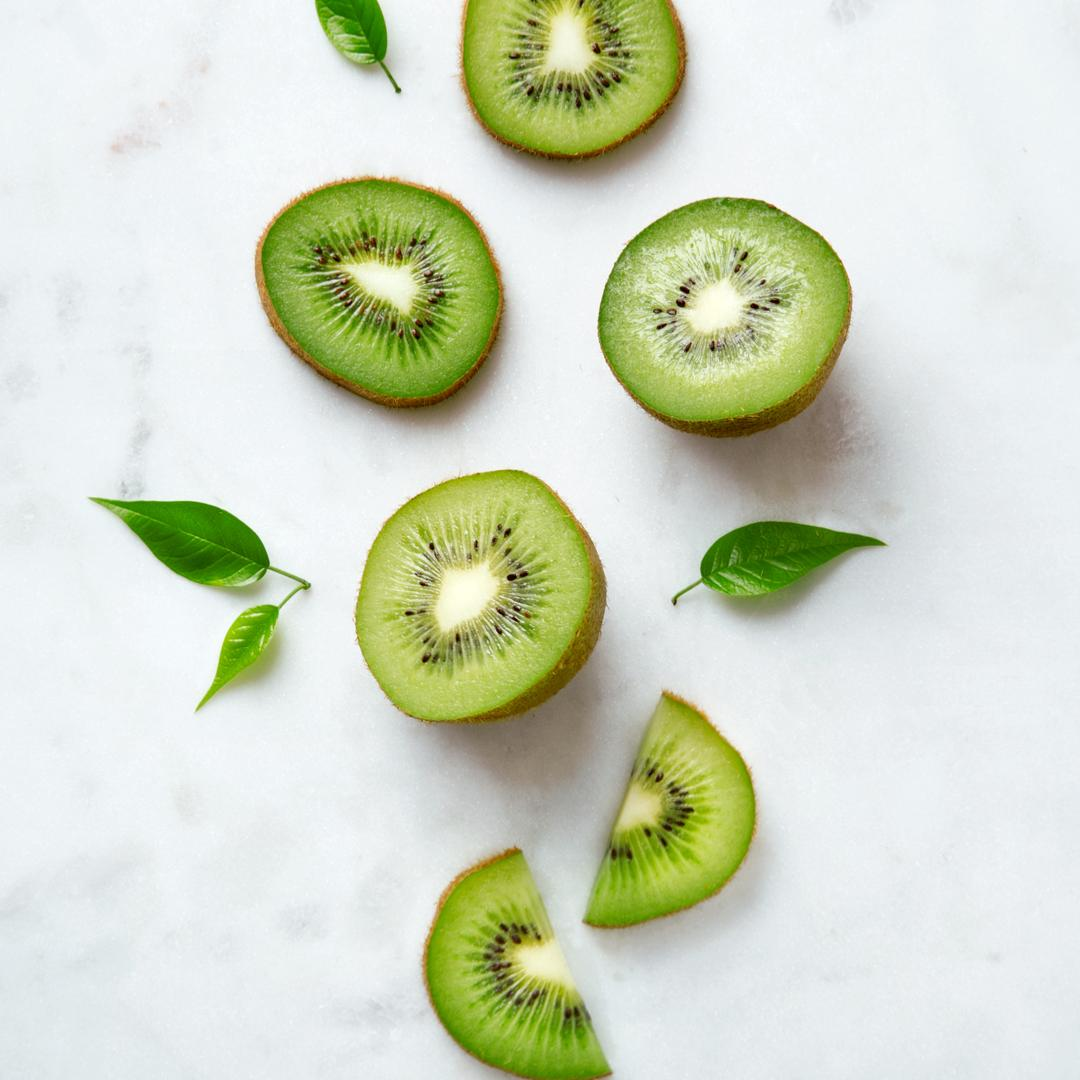kiwi: (588, 187, 865, 466), (348, 462, 616, 735), (242, 163, 516, 408), (442, 0, 714, 172), (582, 692, 770, 934), (427, 840, 615, 1080)
